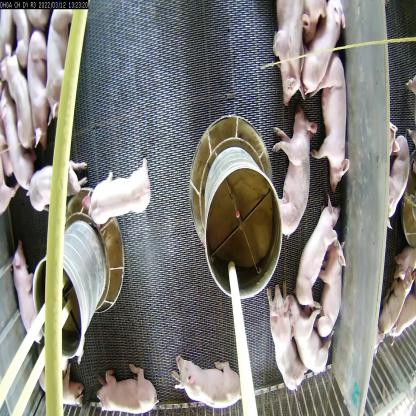Pig: (312, 48, 362, 190), (84, 163, 160, 236), (272, 117, 317, 235), (290, 198, 334, 307), (257, 290, 299, 397), (45, 1, 84, 116), (2, 252, 40, 356), (177, 348, 235, 415), (271, 0, 310, 97), (303, 0, 339, 95), (3, 59, 38, 154), (24, 24, 50, 139), (90, 371, 156, 415), (31, 156, 80, 210), (319, 256, 350, 332), (292, 300, 320, 364)
